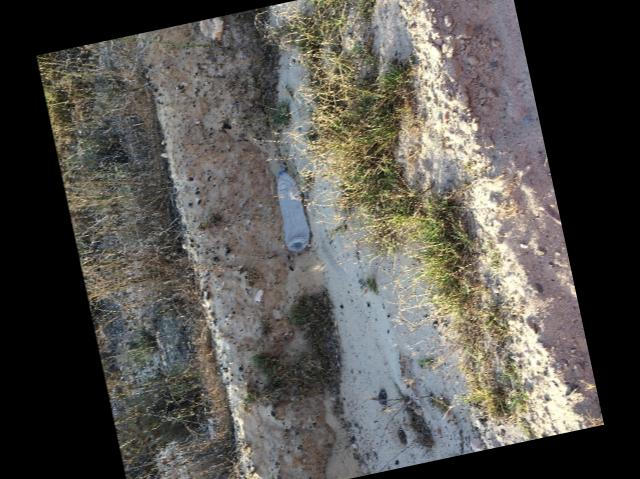plastic: (277, 167, 309, 249)
